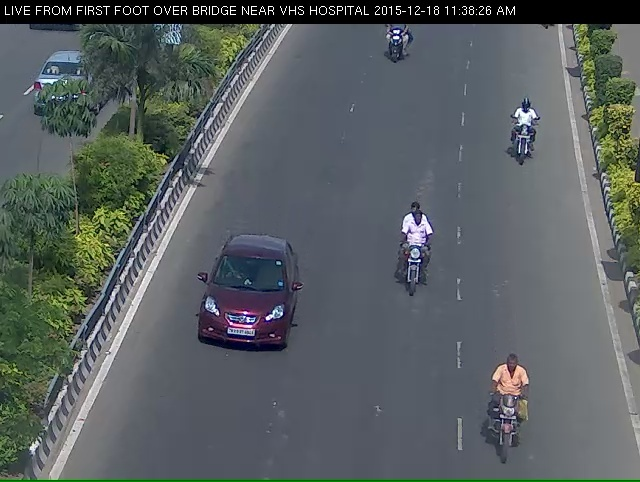Car: (181, 255, 308, 390)
Person: (391, 215, 442, 332), (480, 385, 541, 478), (501, 102, 549, 180), (380, 22, 418, 77)
